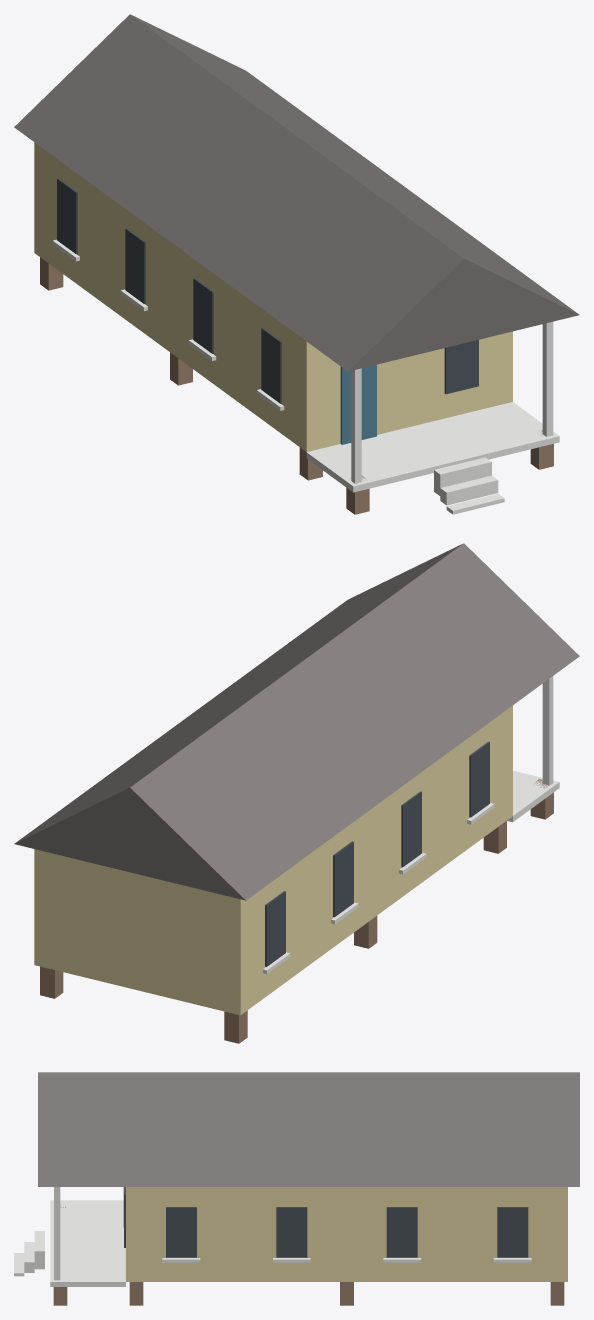
File: SM_House_Shotgun_B.fbx
3 views of the same model, one above another, from view 1: azimuth 30°, elevation 25°; view 2: azimuth 150°, elevation 25°; view 3: azimuth 270°, elevation 25° (orthographic). The views are drawn at different scales.
Parts seen in each view (by area): view 1: SM_House_Shotgun_B_LOD0; view 2: SM_House_Shotgun_B_LOD0; view 3: SM_House_Shotgun_B_LOD0.
Boxes of the visible parts, x1=… form: SM_House_Shotgun_B_LOD0: x1=14, y1=14, x2=579, y2=514; SM_House_Shotgun_B_LOD0: x1=14, y1=543, x2=579, y2=1043; SM_House_Shotgun_B_LOD0: x1=14, y1=1072, x2=579, y2=1305.
Size of what is drawn, in the model's own units: 6.3 by 6.2 by 16.4.
